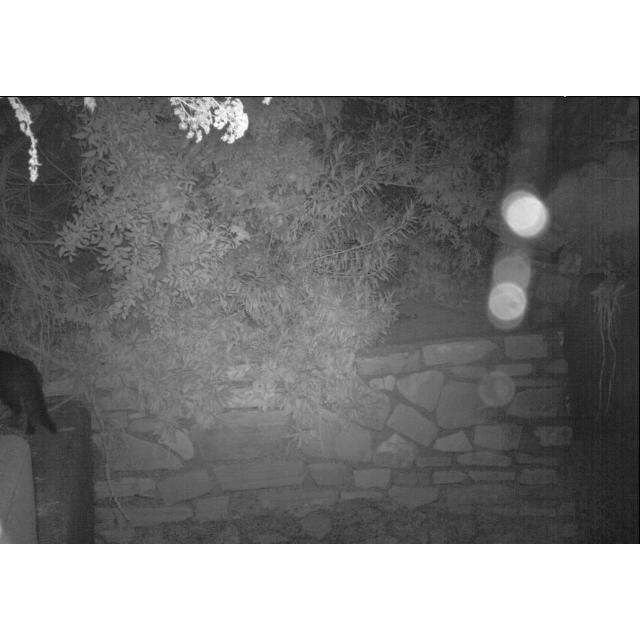animals: (1, 352, 62, 438)
